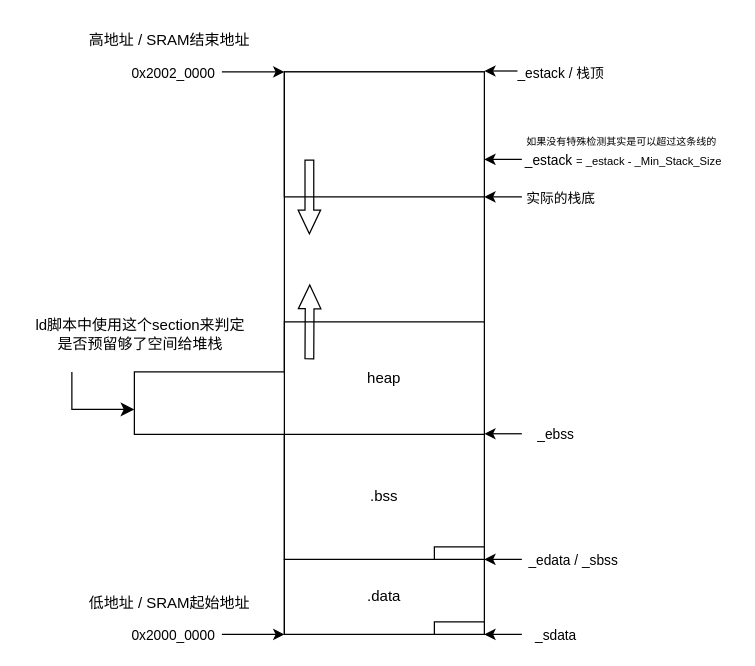
Some shapes in this 755 by 666 pixel diagram are drawn without their labels. The centre of each missing label's shape, as x and y in pixels:
._user_heap_stack: (208,402)
stack ( msp ): (383,134)
